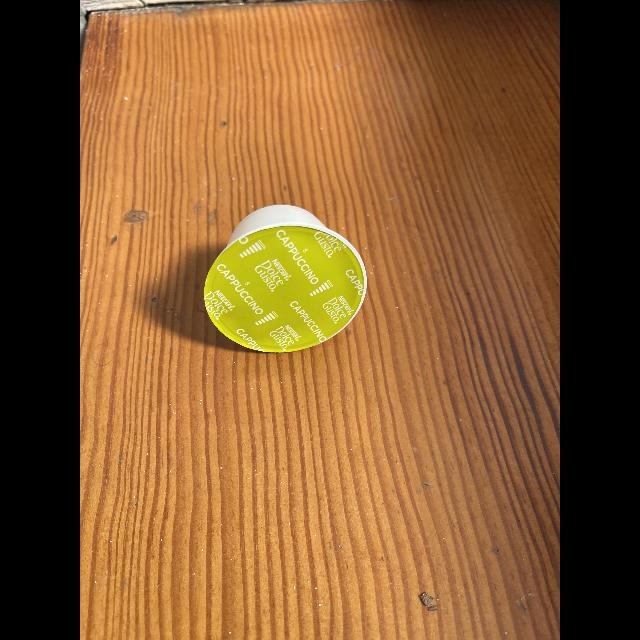intact_capsule: (196, 200, 382, 364)
